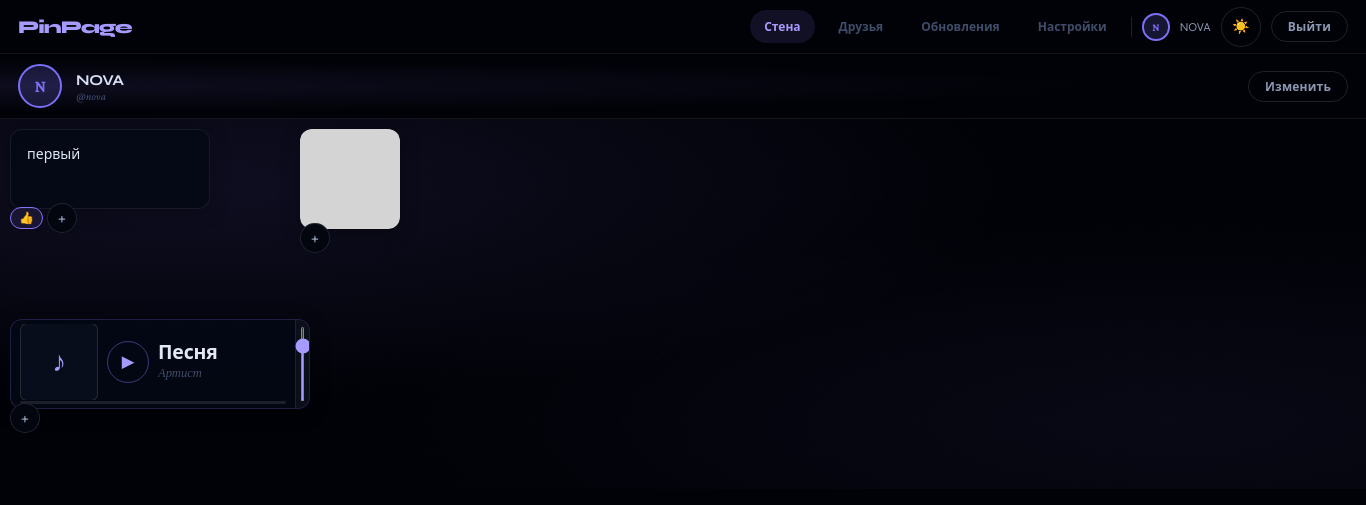
реакции на блоки › повторный клик снимает свою реакцию
This screenshot has width=1366, height=505.
Check: the text "👍" is shown, box [19, 210, 34, 226]
Click the button with class "mine" at (26, 218), box [10, 207, 43, 229]
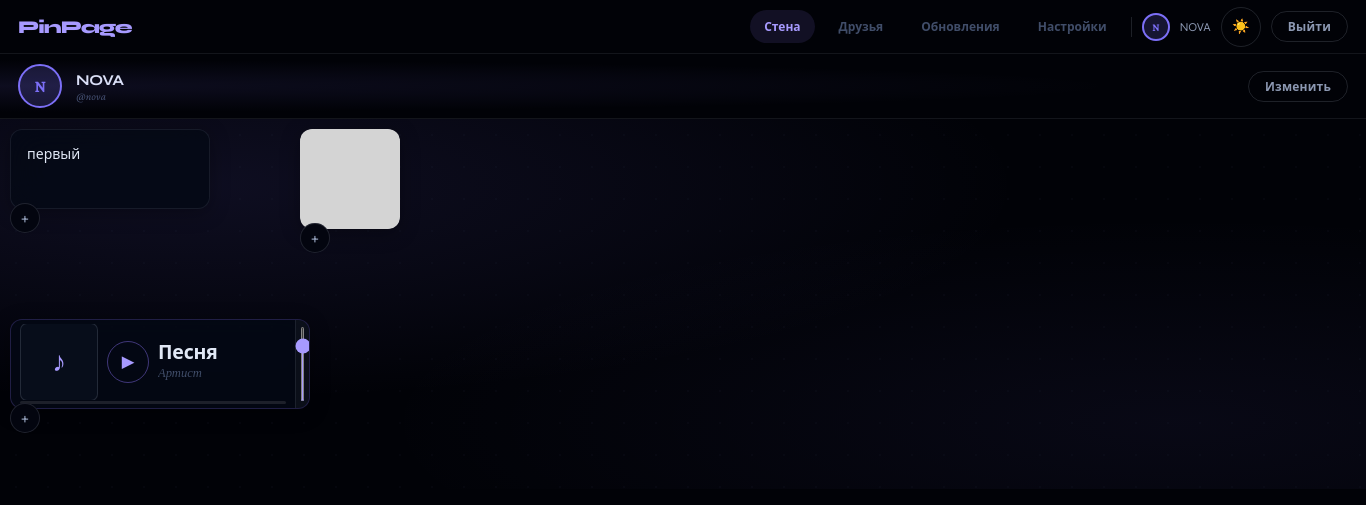
Check: no buttons with class "react-pill" are shown
